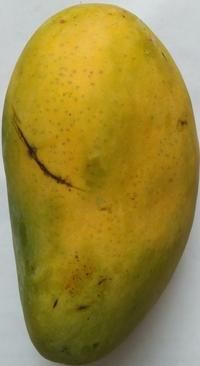PartiallyRipe: (0, 1, 200, 366)
